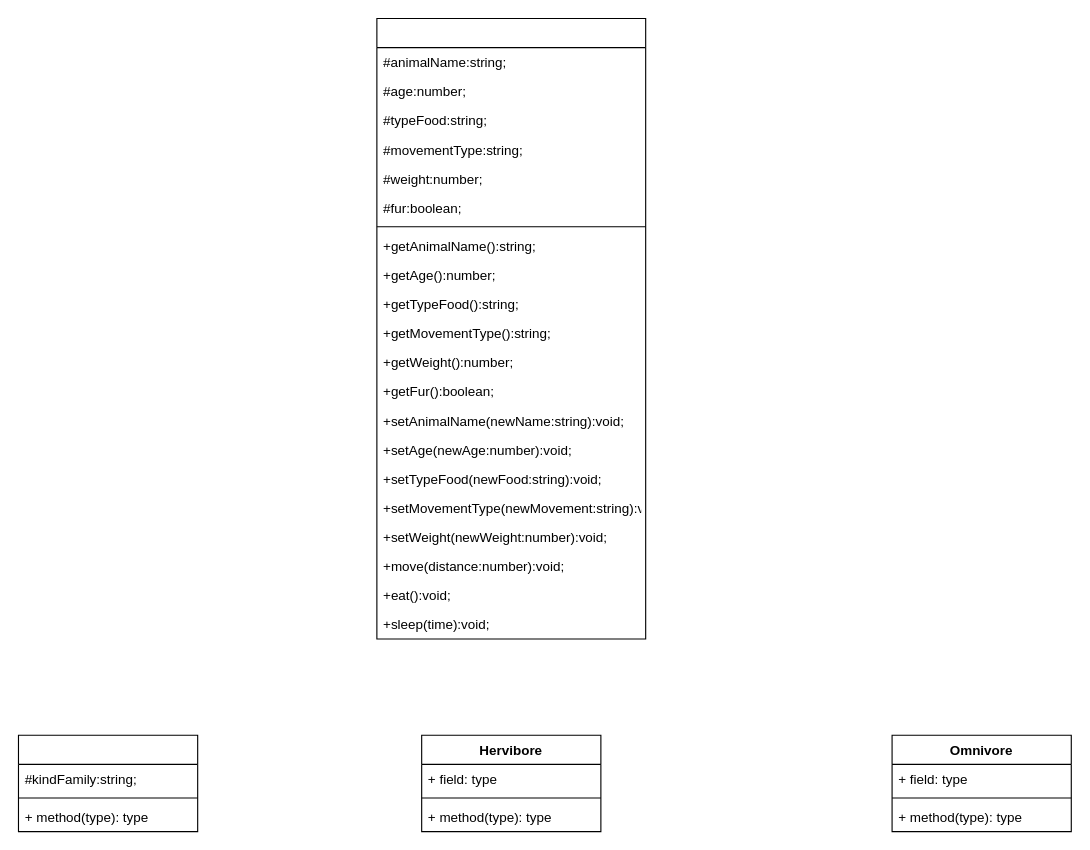
Some shapes in this 1090 by 850 pixel diagram are drawn without their labels. Each missing label, with the box of its shape:
Carnivore: (17, 734, 198, 832)
Mammal: (376, 17, 646, 639)
